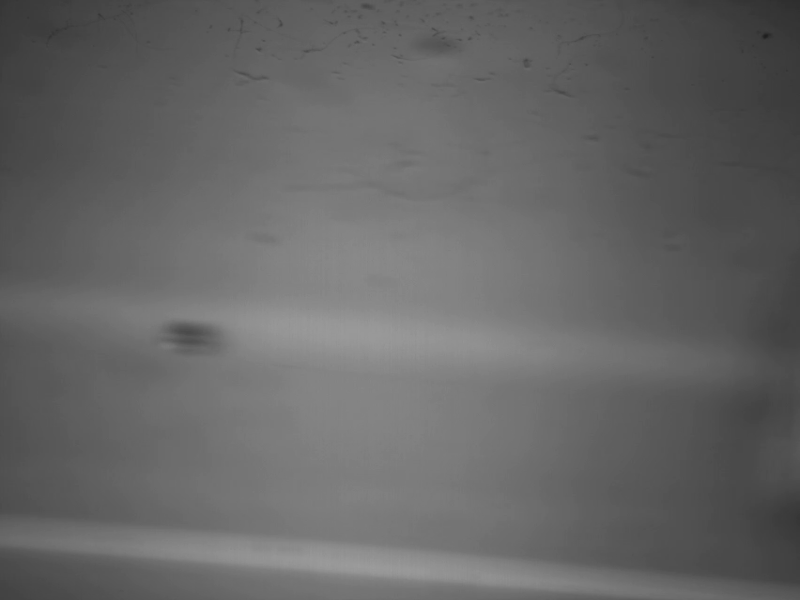bead: (160, 317, 222, 357)
